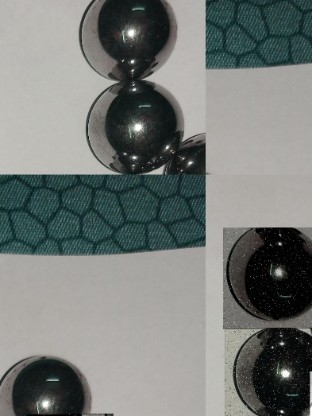ironball: (80, 74, 189, 166), (79, 0, 190, 83), (222, 227, 312, 329), (224, 327, 312, 415), (0, 353, 97, 414), (167, 135, 209, 176)
